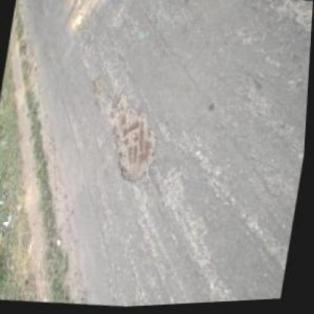Hueco: (100, 94, 166, 186), (90, 78, 109, 106)
